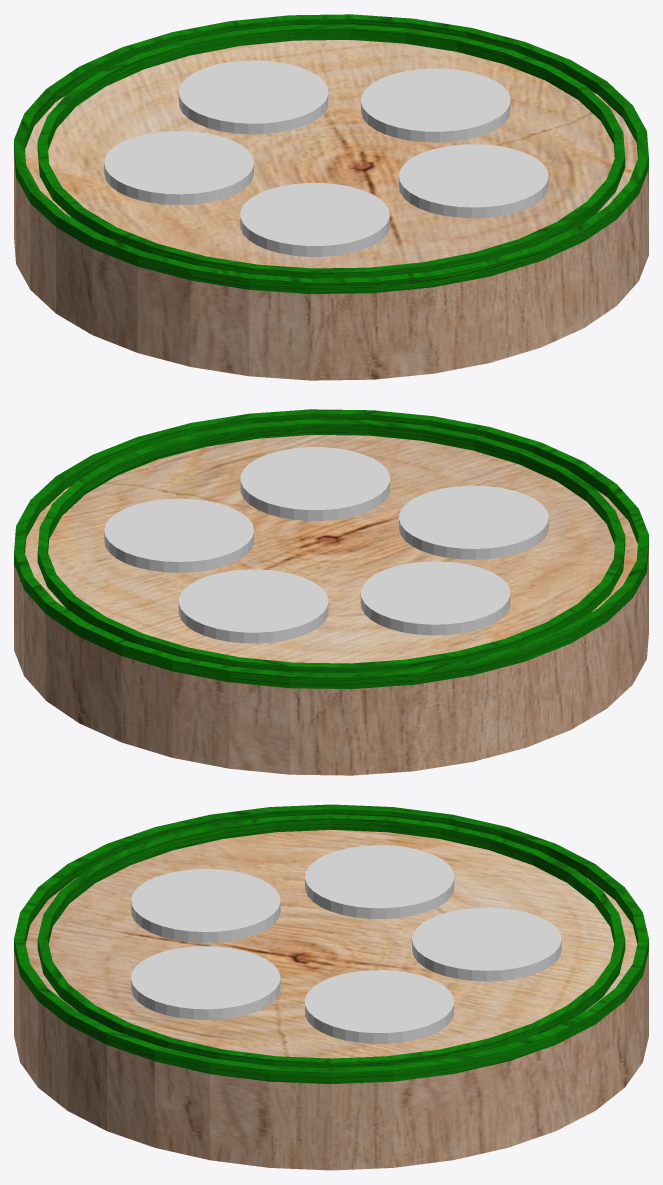
The model's file is Sonnestein5.fbx.
The picture shows the model from 3 angles, top to bottom: view 1: azimuth 30°, elevation 25°; view 2: azimuth 150°, elevation 25°; view 3: azimuth 270°, elevation 25°; orthographic projection.
Visible parts, largest first — view 1: Sonne5; view 2: Sonne5; view 3: Sonne5.
Part boxes in pixels (left/top/right/bottom): Sonne5: left=14, top=14, right=648, bottom=380; Sonne5: left=14, top=409, right=648, bottom=775; Sonne5: left=14, top=804, right=648, bottom=1170.
Size of the model in its own units: 200 by 34 by 200.
